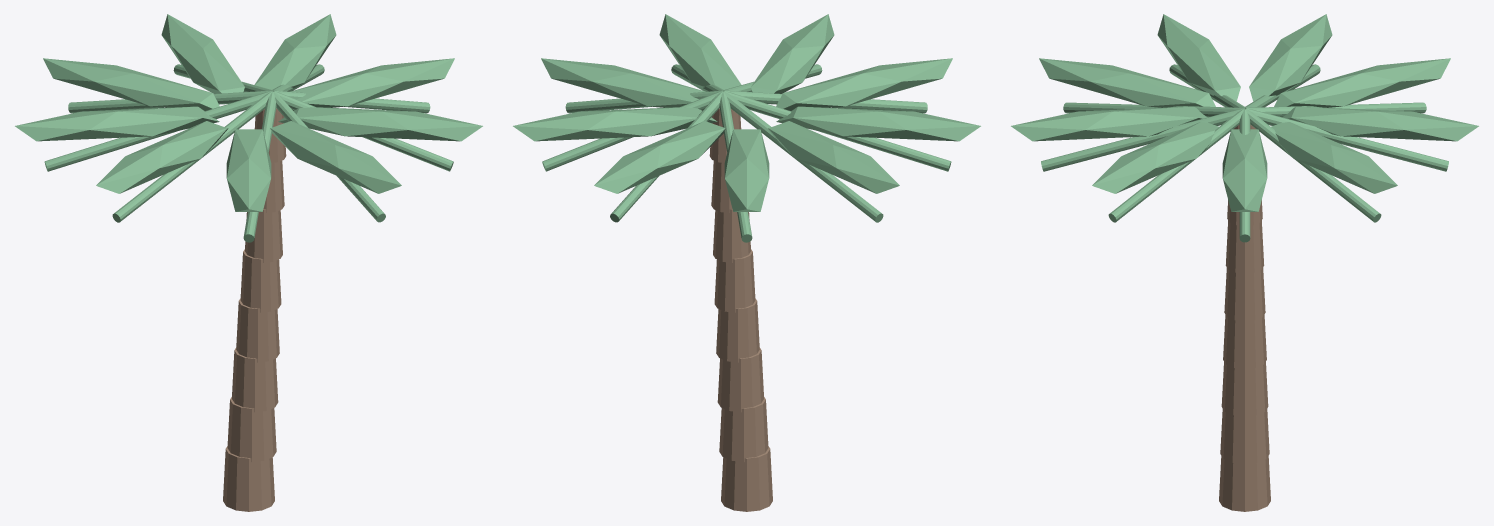
File: palm.glb
3 renders of one model, left to right at view 1: azimuth 30°, elevation 25°; view 2: azimuth 150°, elevation 25°; view 3: azimuth 270°, elevation 25°, orthographic.
Visible parts, largest first — view 1: palm_017, palm_025, palm_015, palm_009, palm_023, palm_019, palm_013, palm_021, palm_011, palm_000, palm_001, palm_002 (+12 smaller); view 2: palm_019, palm_011, palm_021, palm_009, palm_013, palm_017, palm_023, palm_015, palm_025, palm_000, palm_001, palm_002 (+12 smaller); view 3: palm_013, palm_023, palm_015, palm_021, palm_011, palm_025, palm_017, palm_019, palm_009, palm_000, palm_001, palm_002 (+10 smaller).
Part boxes in pixels (x1,y1,x2,y2): palm_017: (15,106,219,141); palm_025: (278,107,482,141); palm_015: (43,58,219,110); palm_009: (290,58,454,110); palm_023: (270,121,401,193); palm_019: (96,121,228,193); palm_013: (161,14,244,93); palm_021: (226,129,271,211); palm_011: (254,14,336,89); palm_000: (223,446,274,511); palm_001: (227,397,276,461); palm_002: (232,347,278,412); palm_019: (776,106,980,141); palm_011: (513,107,717,141); palm_021: (776,58,952,110); palm_009: (541,58,705,110); palm_013: (594,121,725,193); palm_017: (767,121,899,193); palm_023: (751,14,834,93); palm_015: (724,129,769,211); palm_025: (659,14,741,89); palm_000: (721,446,772,511); palm_001: (719,397,768,461); palm_002: (717,347,763,412); palm_013: (1282,106,1478,141); palm_023: (1011,106,1207,141); palm_015: (1274,58,1450,107); palm_021: (1039,58,1215,107); palm_011: (1271,122,1397,193); palm_025: (1092,122,1218,193); palm_017: (1249,14,1332,101); palm_019: (1157,14,1240,101); palm_009: (1222,129,1267,211); palm_000: (1219,456,1270,511); palm_001: (1220,409,1269,464); palm_002: (1221,362,1268,416).
Bounding box in the file's own units: 3.37 × 3.25 × 3.42.
